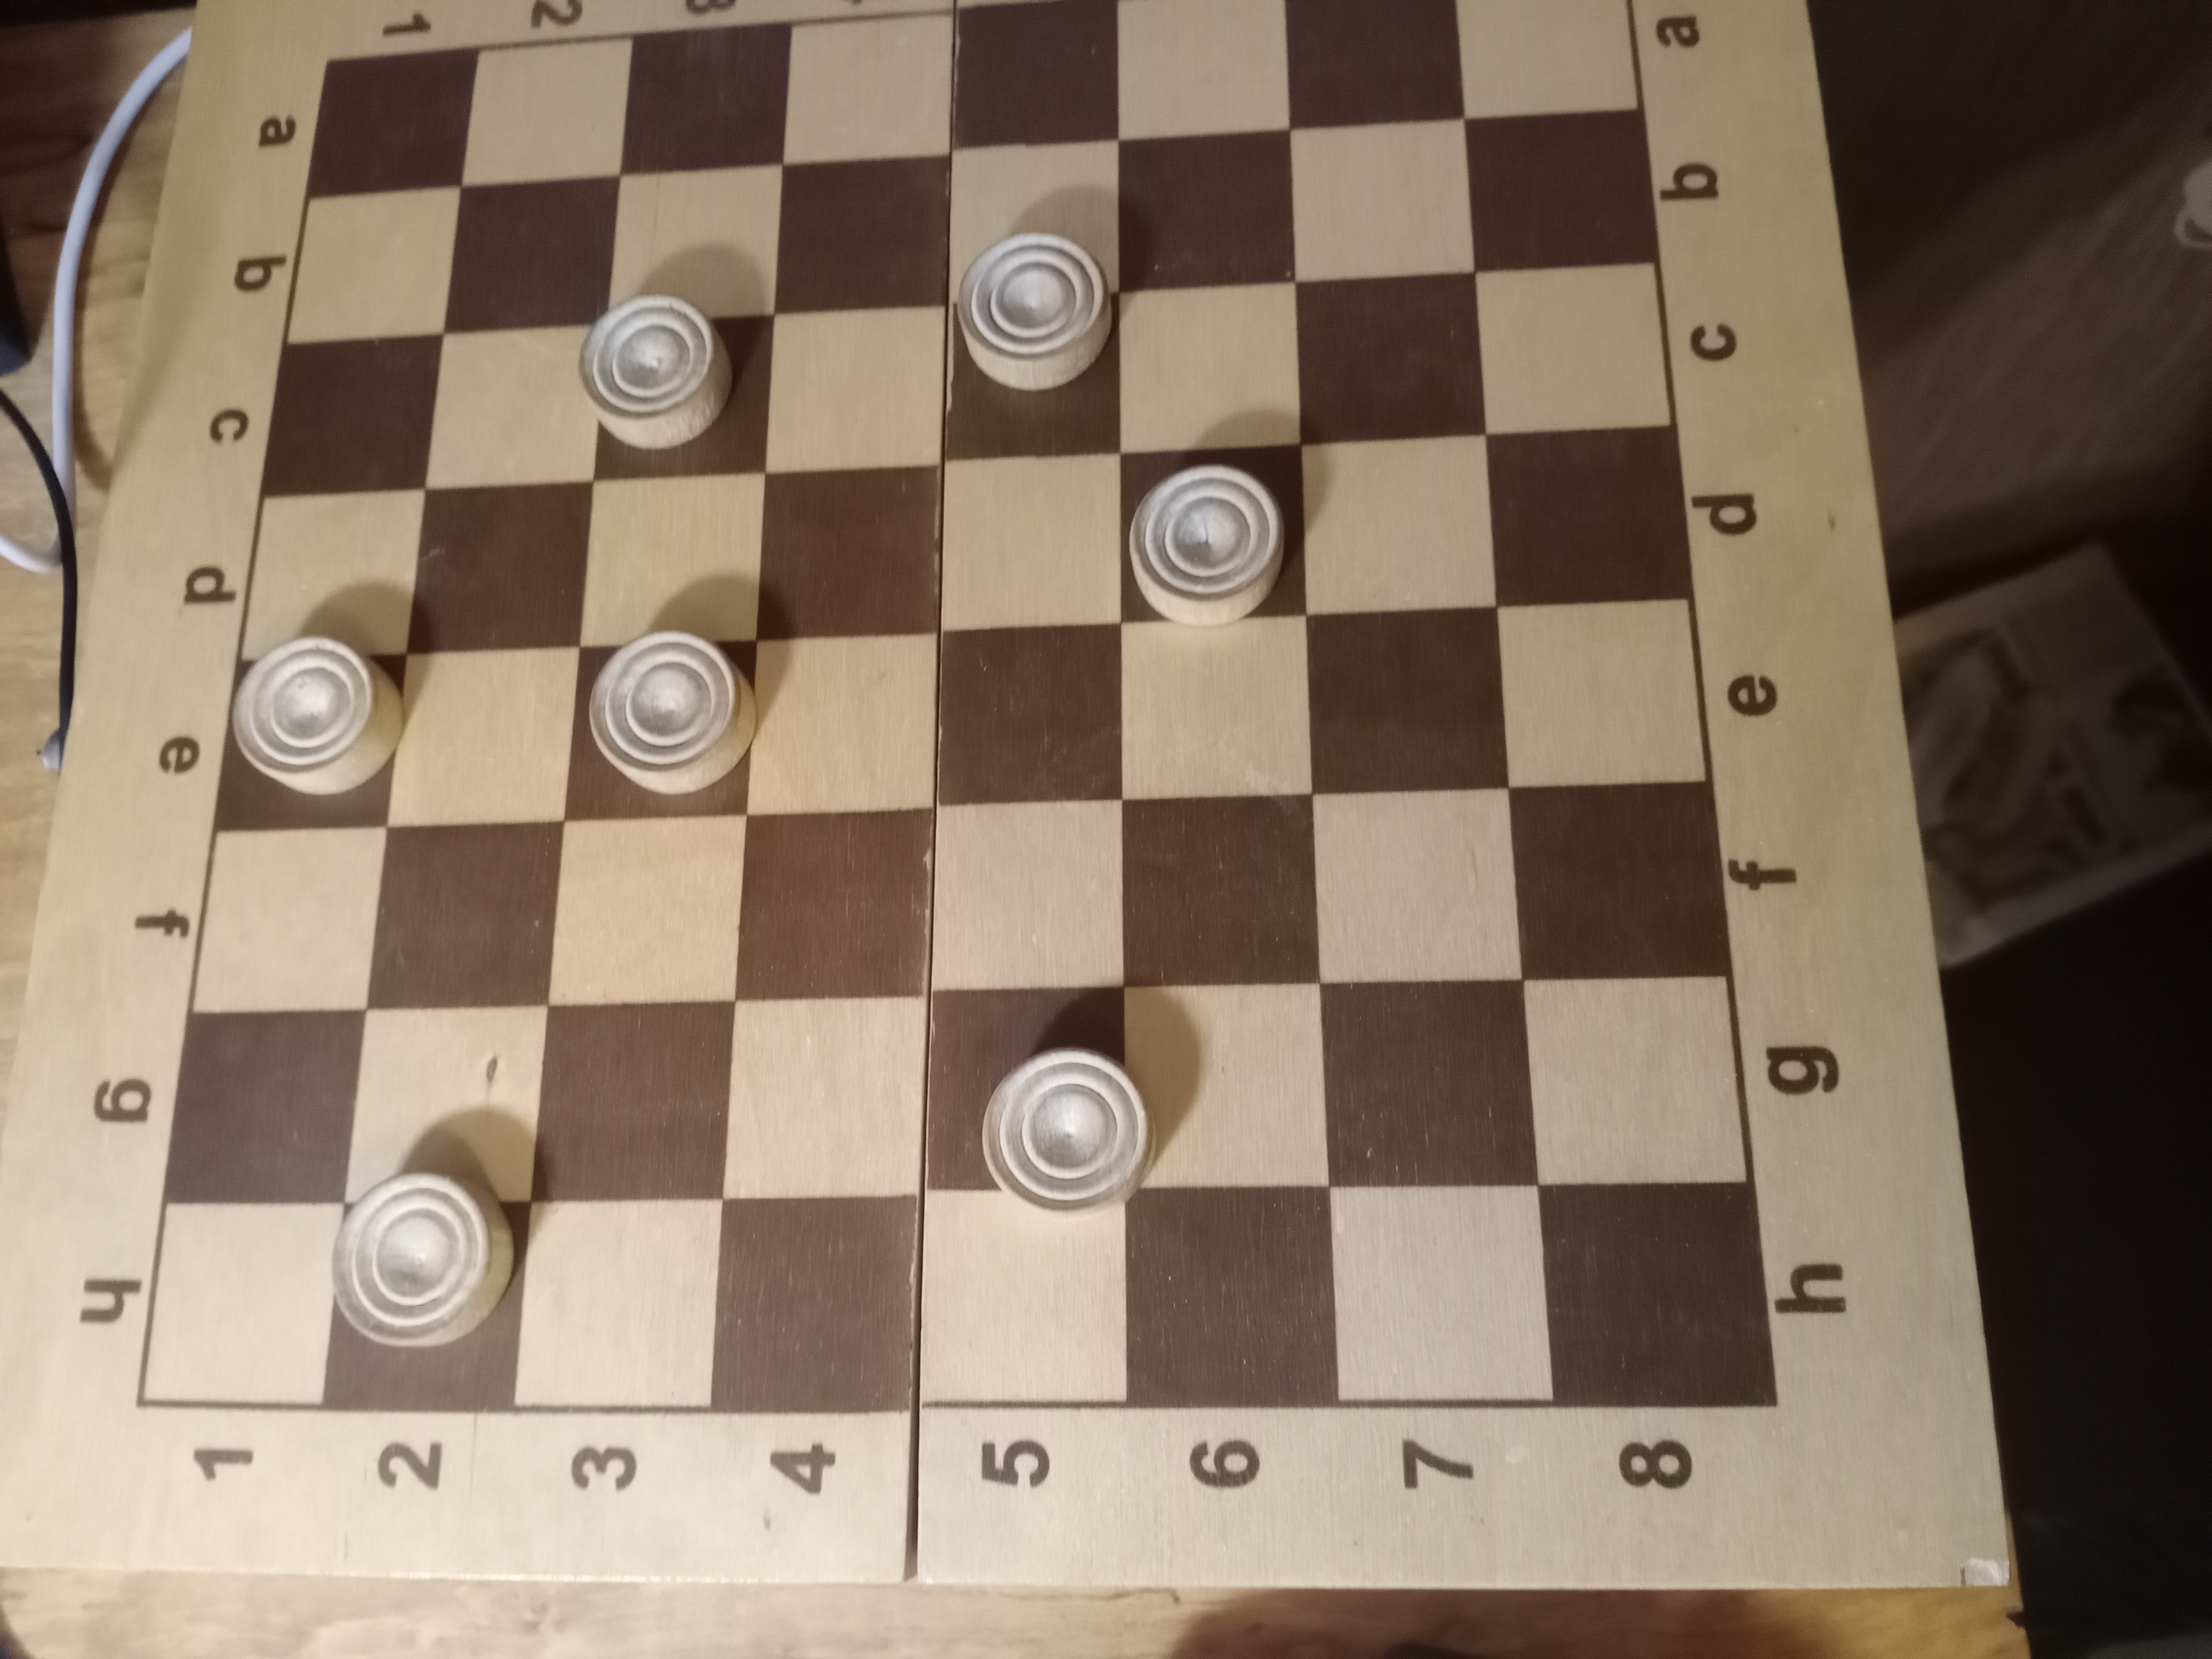White_Draught: (925, 988, 1155, 1215), (324, 1171, 533, 1408), (944, 234, 1123, 464), (216, 636, 408, 831), (580, 293, 775, 483), (564, 633, 761, 819), (1120, 444, 1308, 626)
